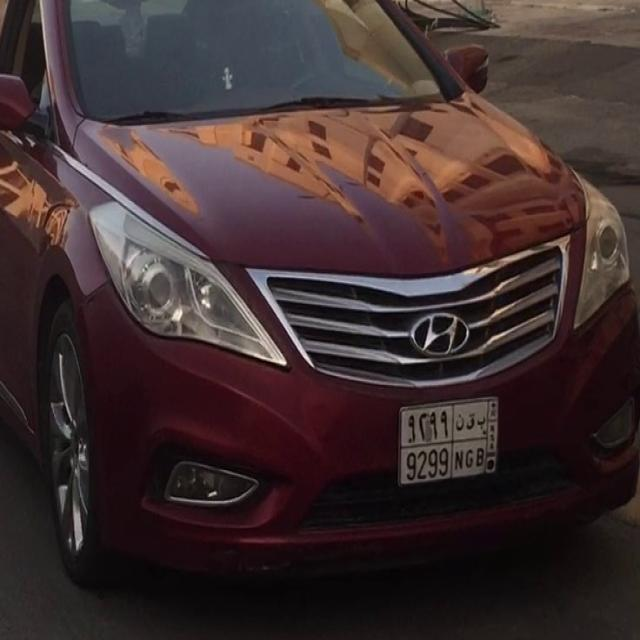Car-plate: (386, 372, 521, 519)
